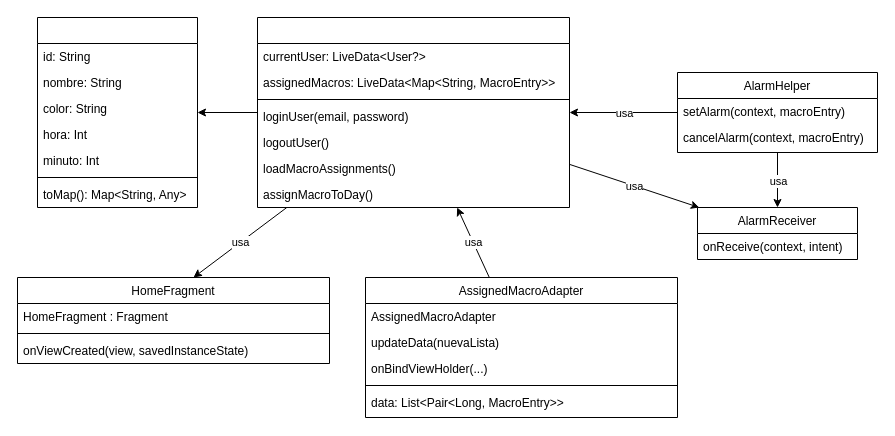
This 895x436 diagram has some shape labels left out. The box of each missing label's shape, as (x1, y1, x2, y2) in pixels:
MacroEntry: (36, 16, 198, 208)
SharedViewModel: (256, 16, 570, 208)
